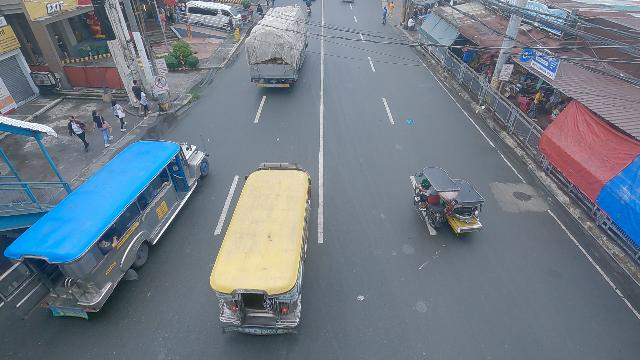jeepney: (6, 138, 210, 323), (210, 159, 316, 338)
truck: (244, 5, 309, 89)
